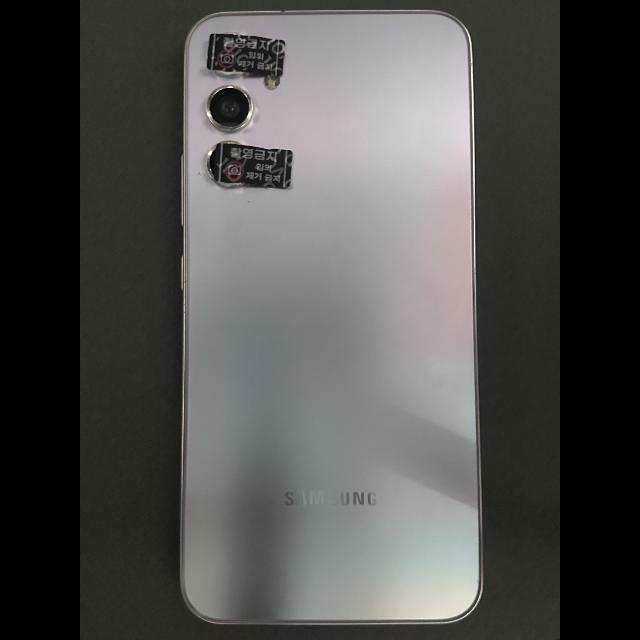lens: (207, 85, 252, 131), (207, 144, 243, 186), (217, 71, 239, 74)
phone: (180, 9, 484, 625)
sticker: (214, 143, 293, 189), (207, 33, 285, 76)
